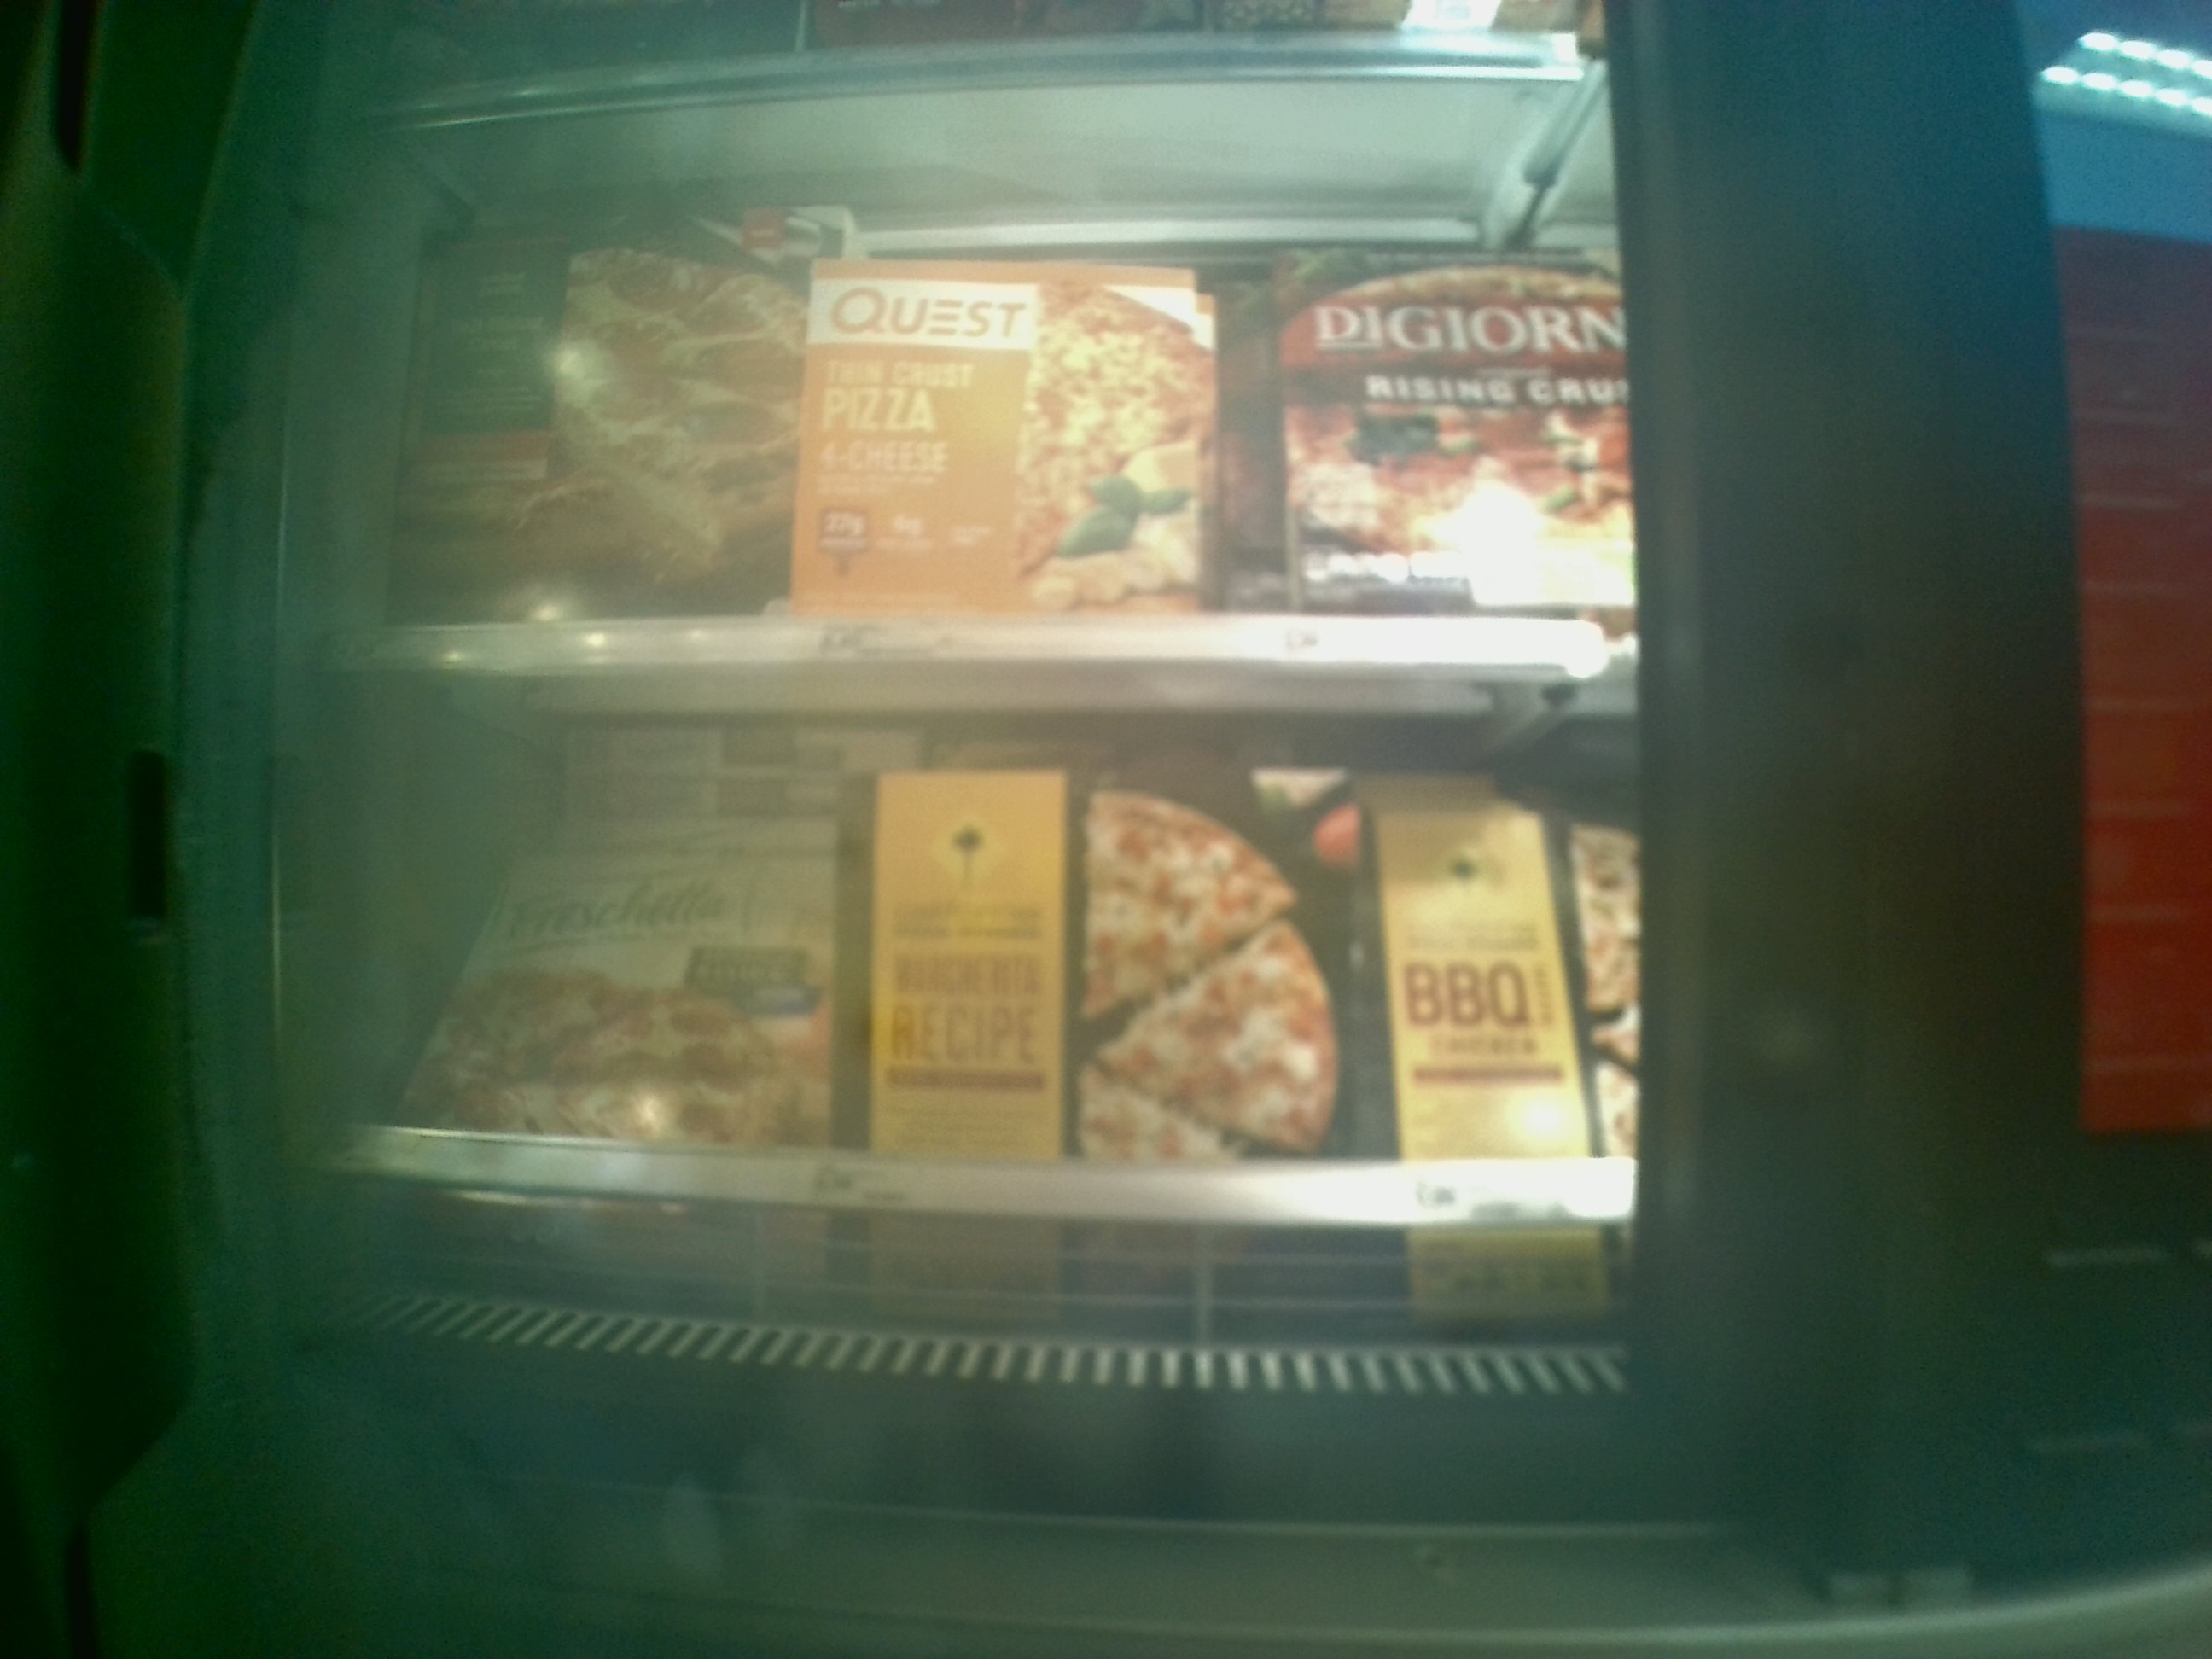pizza: (864, 772, 1393, 1150), (782, 265, 1223, 606), (390, 200, 761, 592), (442, 847, 827, 1136), (542, 732, 843, 777), (561, 786, 841, 814)
